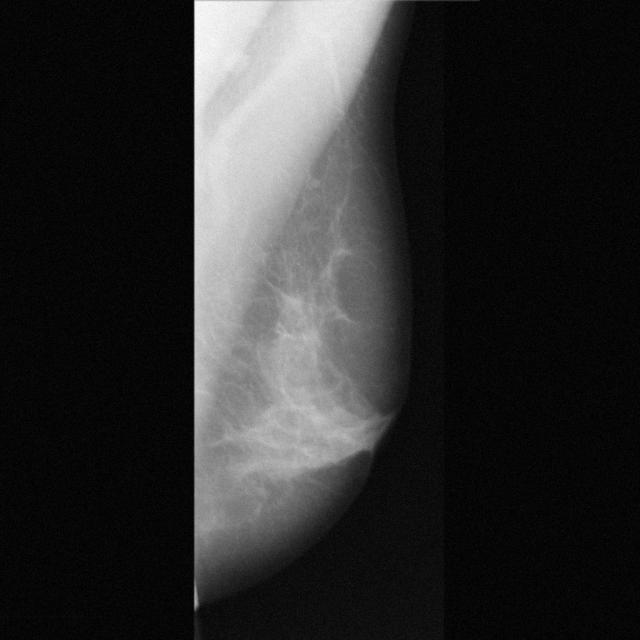CALC: (270, 287, 326, 343)
